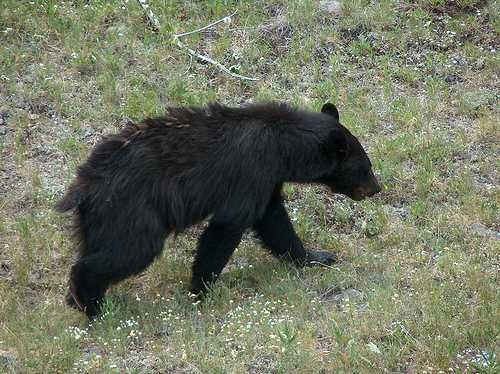bear: (272, 94, 400, 222)
